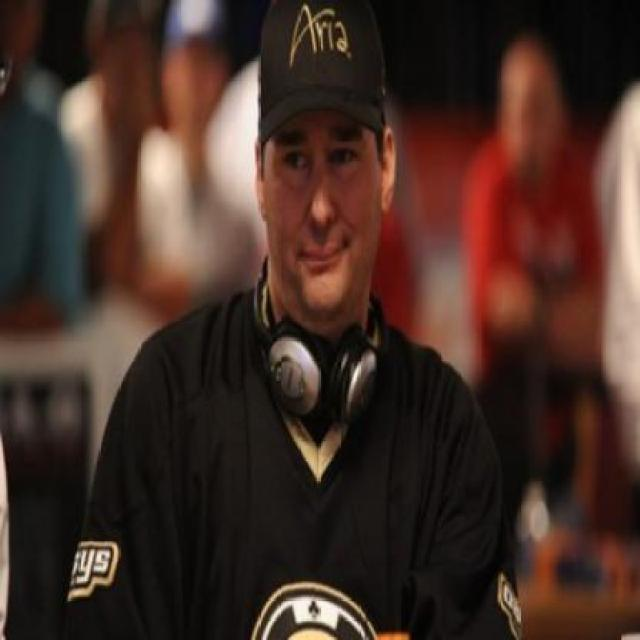earphone: (240, 274, 412, 428)
